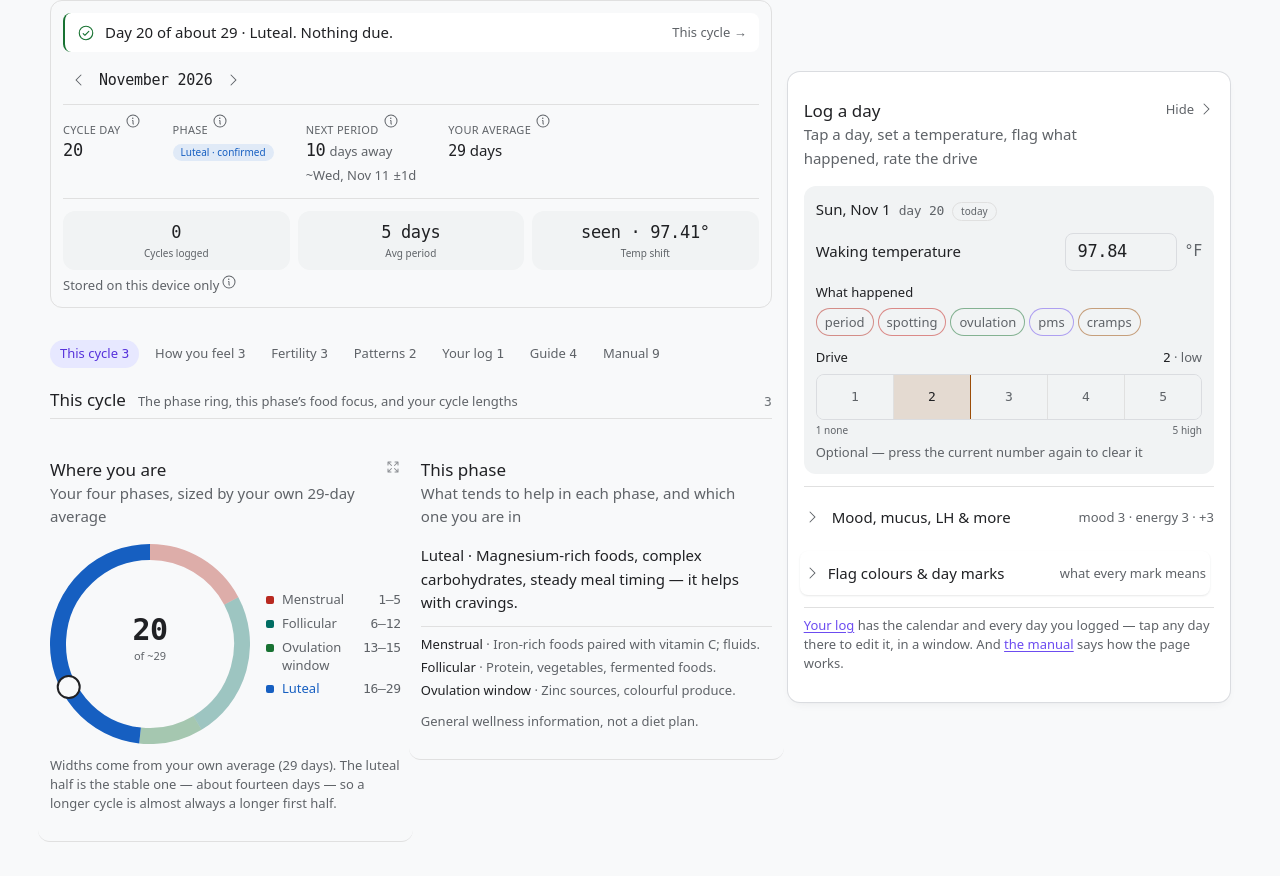
Test: Cycle · the registry is the review zone › takes a tip’s "Learn more" to the manual
This screenshot has width=1280, height=876.
Click the button named "What this means: cycle day".
click(132, 121)  # box [124,113,140,129]
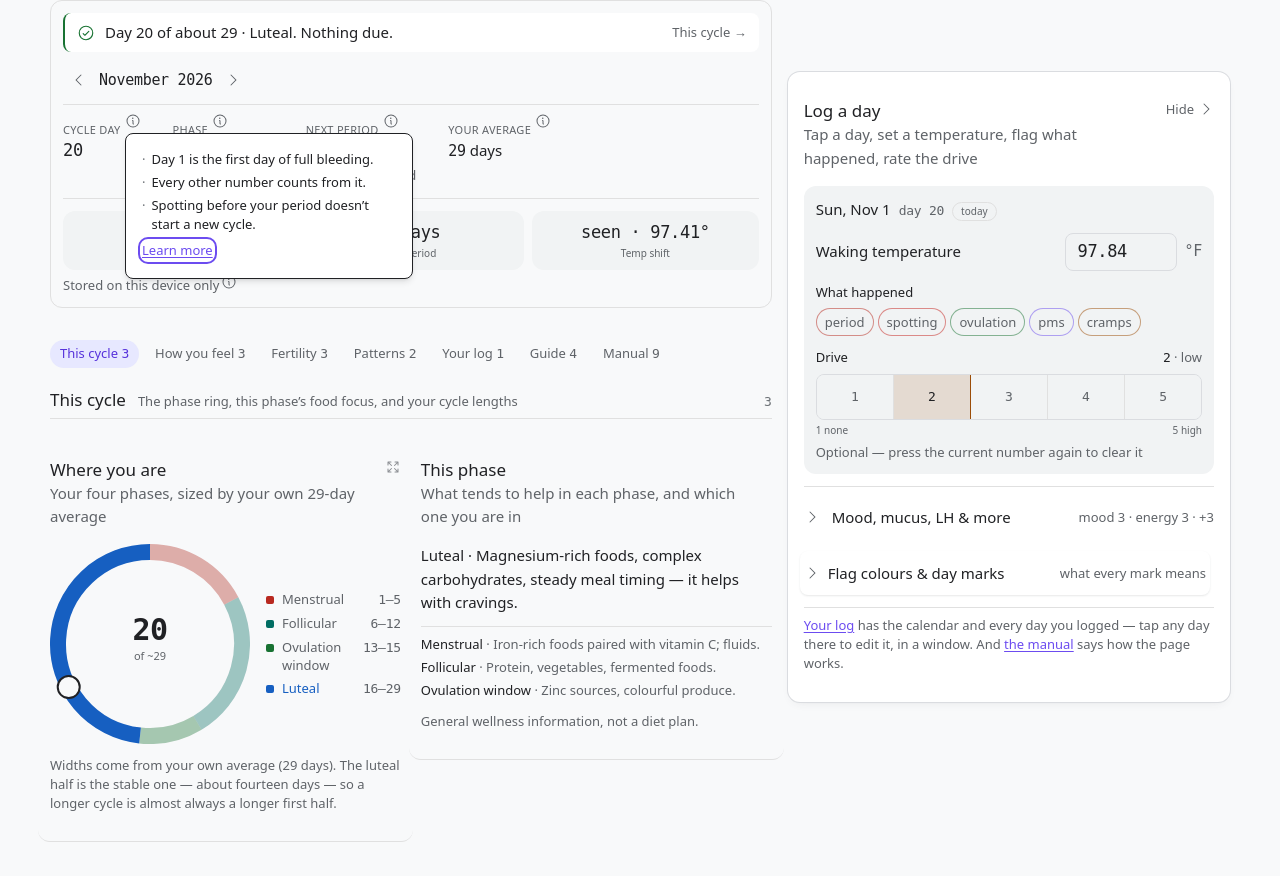
Click the button "Learn more".
click(177, 251)  # box [142,241,213,260]
(page scrolled)
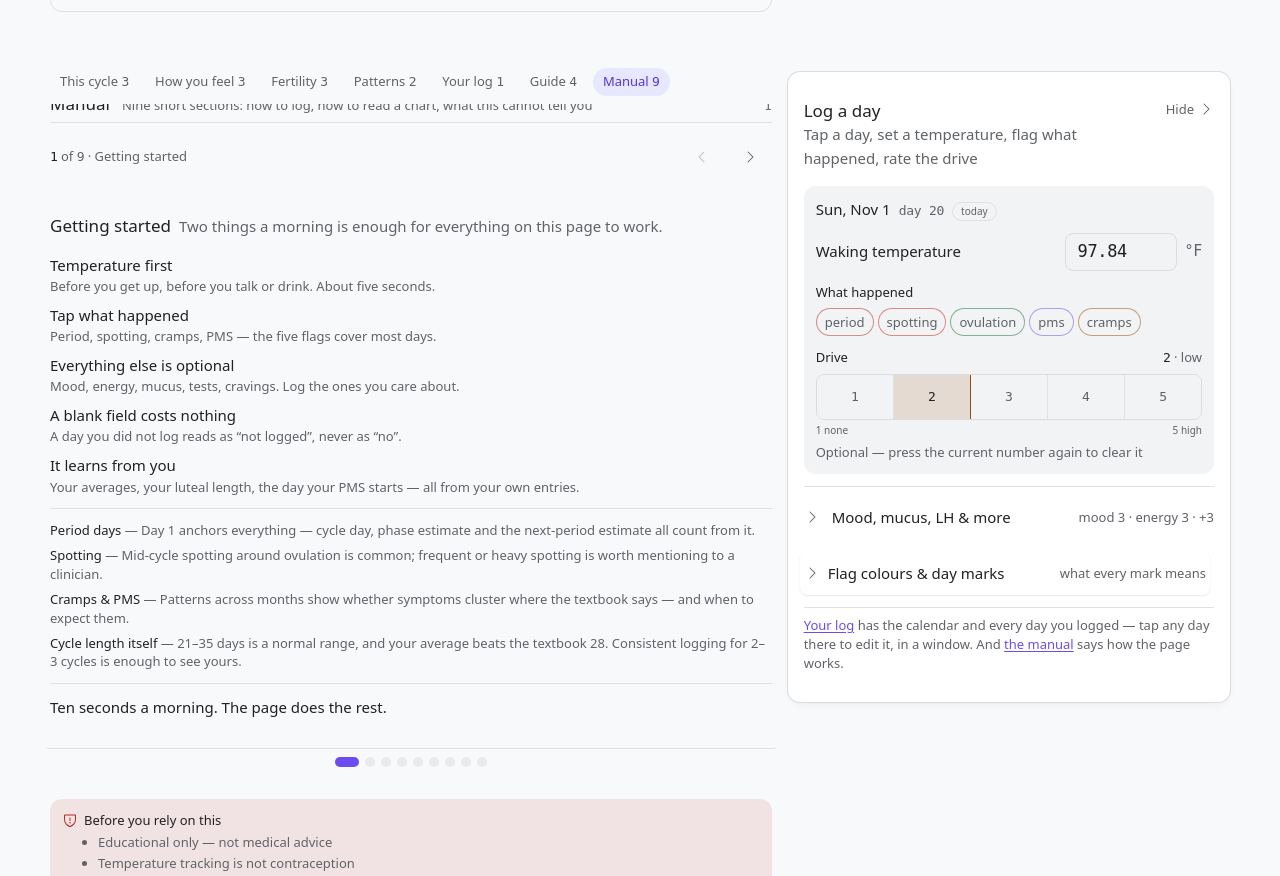
Expected: the element that starts with "Getting started" is shown, [50,135,772,767]
